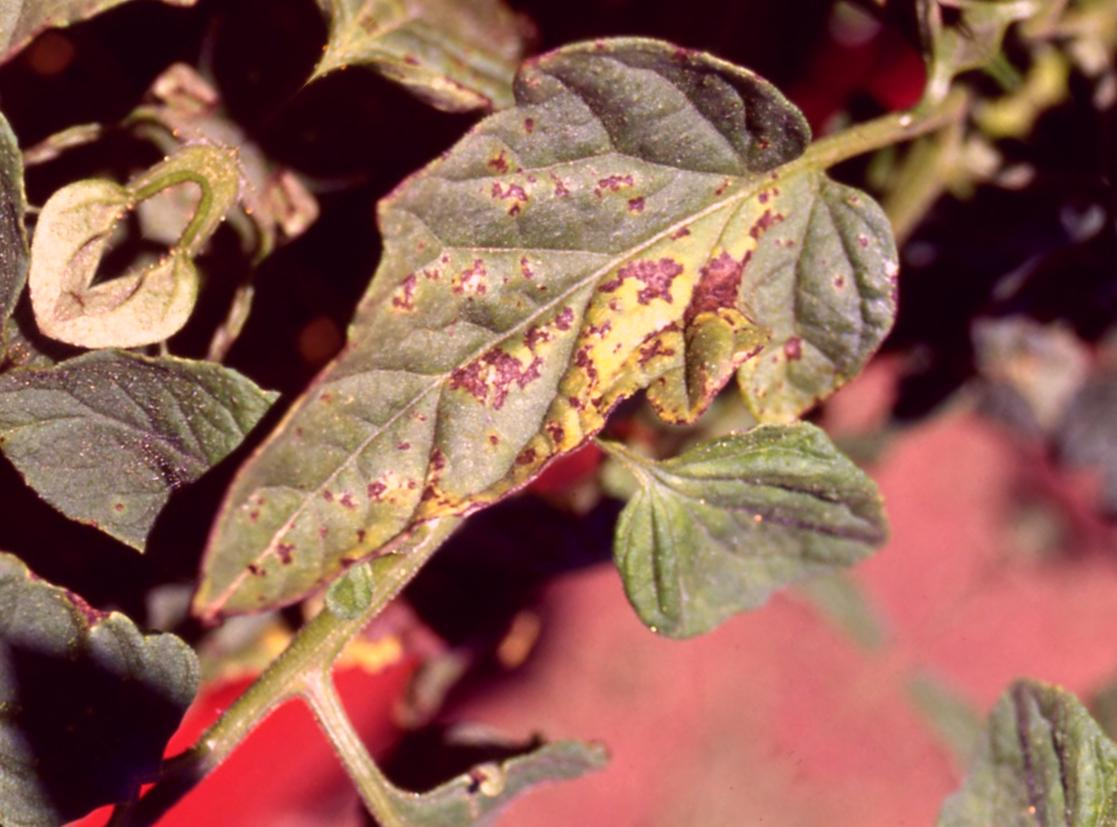Tomato leaf bacterial spot: (48, 0, 974, 827), (526, 306, 967, 747)
